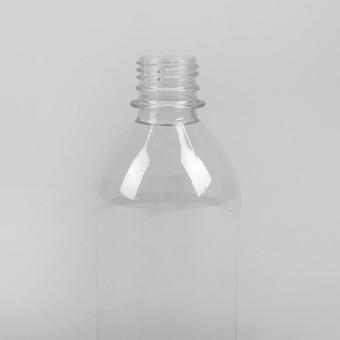bottle: (94, 52, 242, 340)
